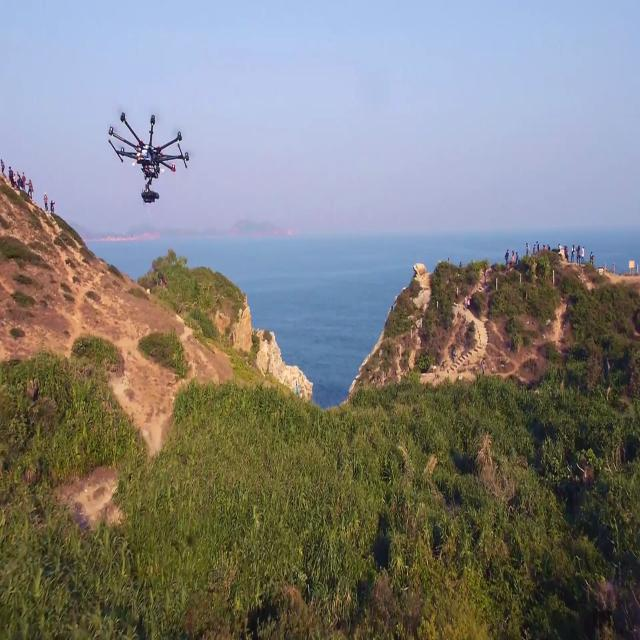drone: (103, 94, 192, 204)
